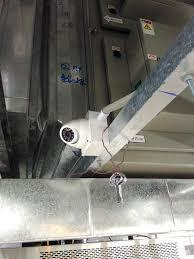Monitor: (47, 103, 112, 168)
